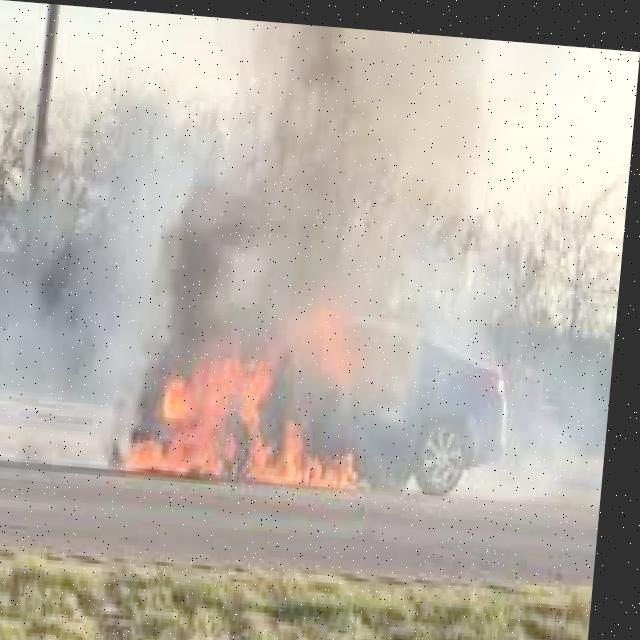Fire: (112, 337, 388, 498), (275, 298, 394, 392)
